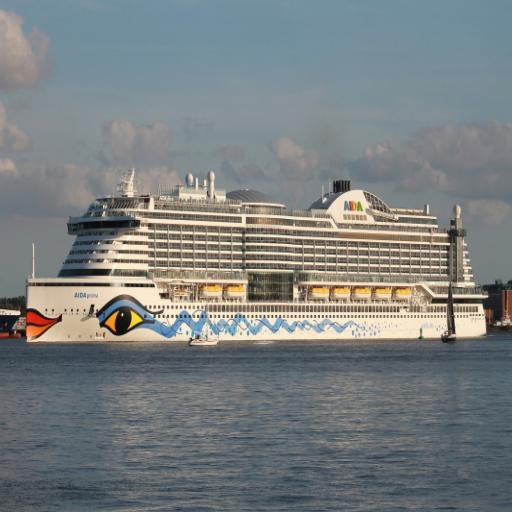cruises: (24, 159, 491, 347)
